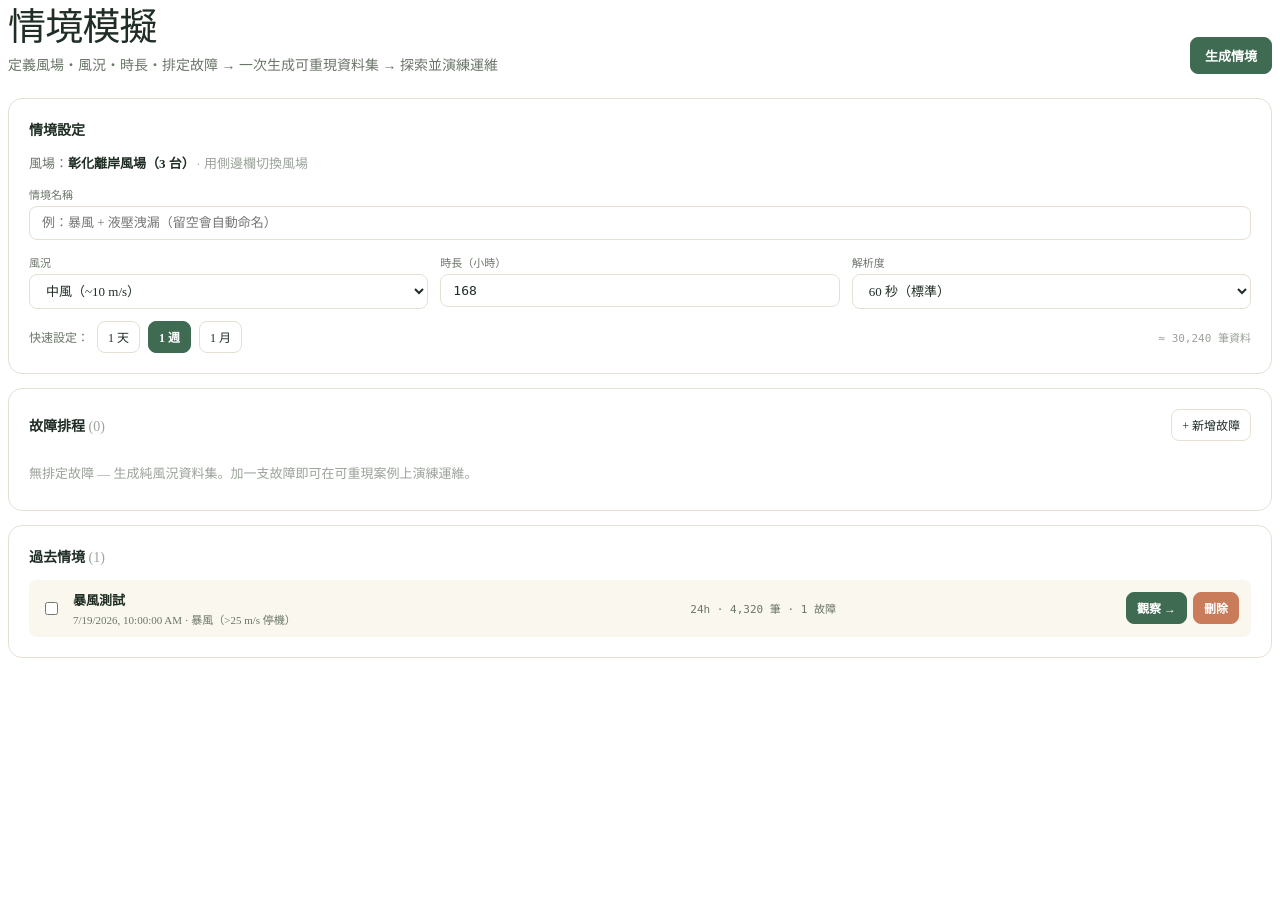
Test: ScenarioPage — 故障排程增刪 › 點「新增故障」加入一列（含場景 / 風機 選單）
Click the button "+ 新增故障" at (1211, 425), box [1171,409,1251,441]
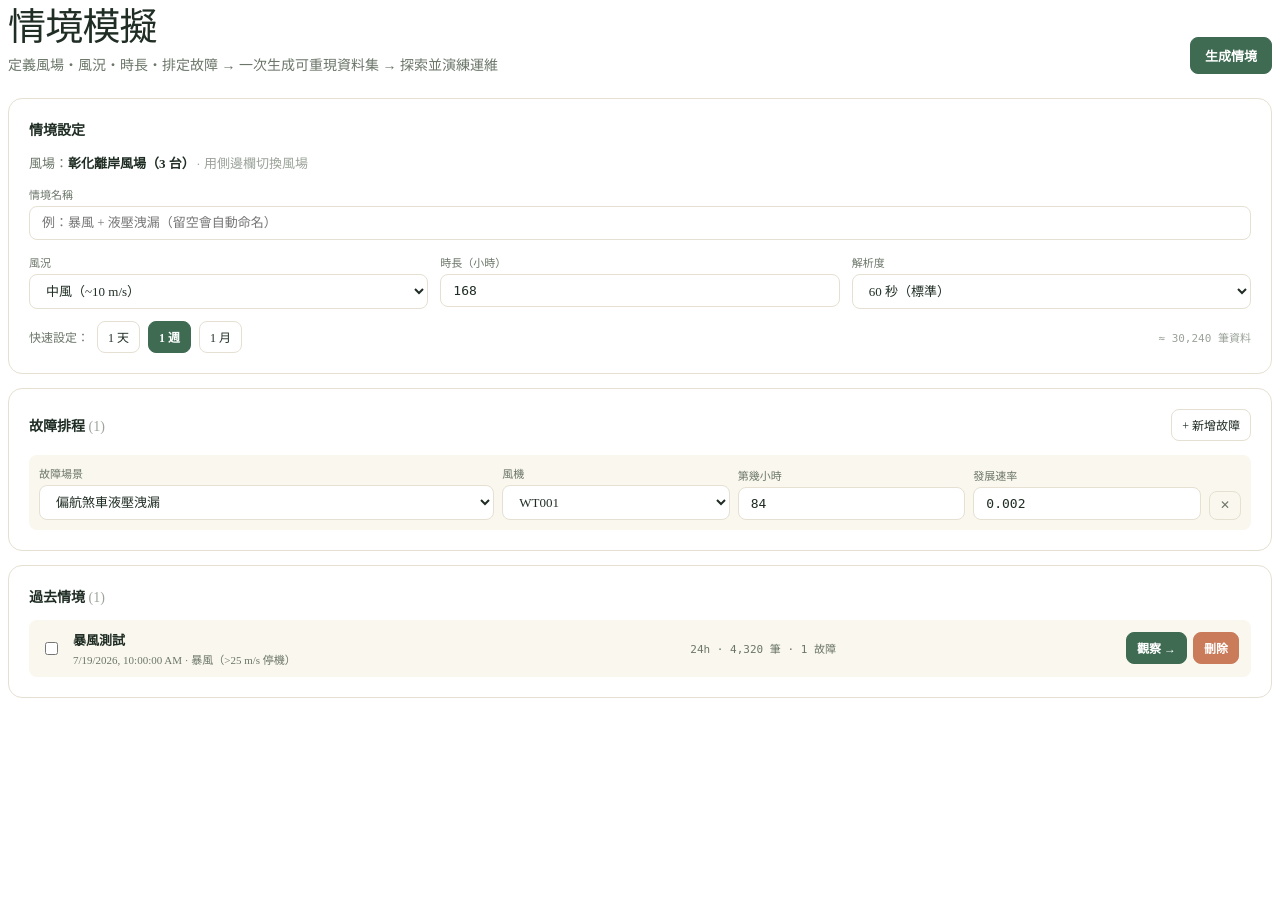
Now the dropdown labelled "故障場景" is shown, box [39,485,494,520]
Now the dropdown labelled "風機" is shown, box [502,485,730,520]
Now the number field labelled "第幾小時" is shown, box [738,487,965,520]
